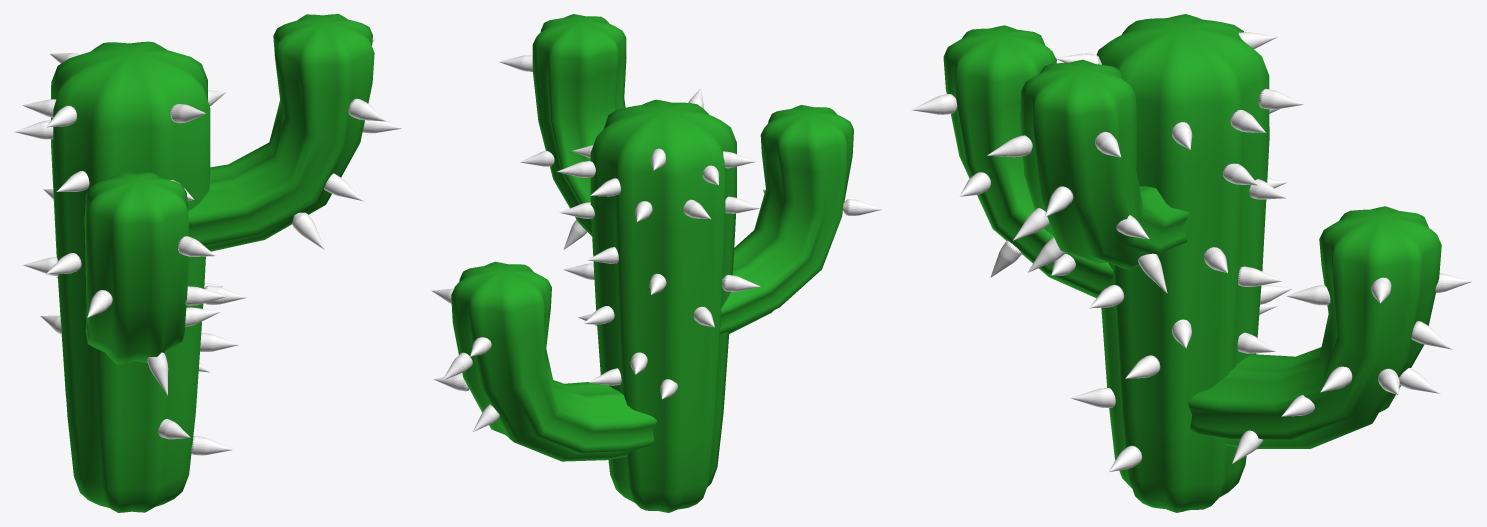
File: cactus.glb
3 views of the same model, side by side, from view 1: azimuth 30°, elevation 25°; view 2: azimuth 150°, elevation 25°; view 3: azimuth 270°, elevation 25° (orthographic). The views are drawn at different scales.
Visible parts, largest first — view 1: cactus-1.003; view 2: cactus-1.003; view 3: cactus-1.003.
Part boxes in pixels (bbox=[...]): cactus-1.003: bbox=[15, 14, 402, 512]; cactus-1.003: bbox=[431, 14, 882, 512]; cactus-1.003: bbox=[911, 14, 1472, 512].
Size of the model in its own units: 59.38 by 75.47 by 75.3.
